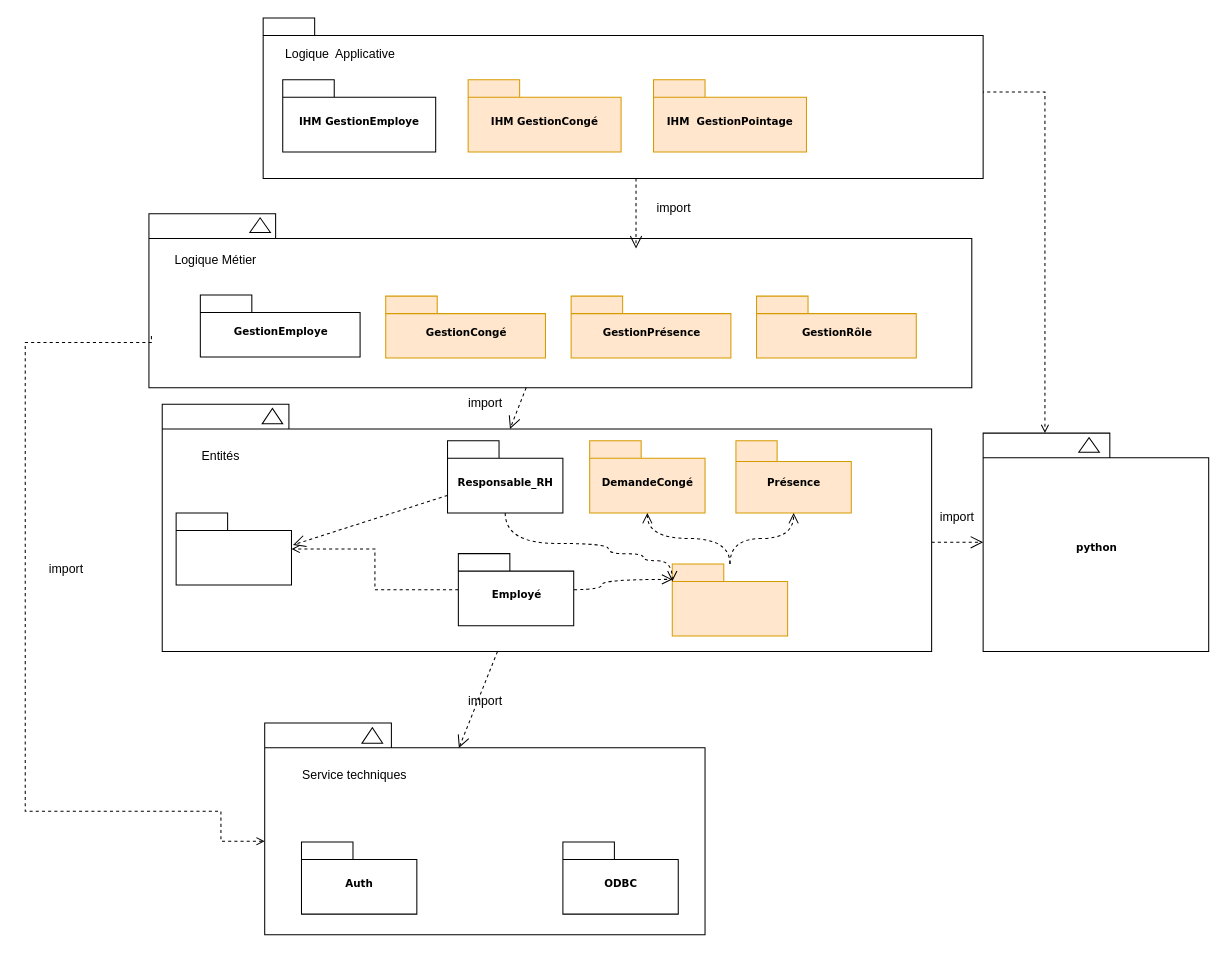
Image size: 1227x953. Some labels were removed from this diagram. Here are the shapes that lost their labels. From the top down, the centre of each, then its label:
(x=233, y=548): Utilisateur
(x=729, y=599): Rôle
